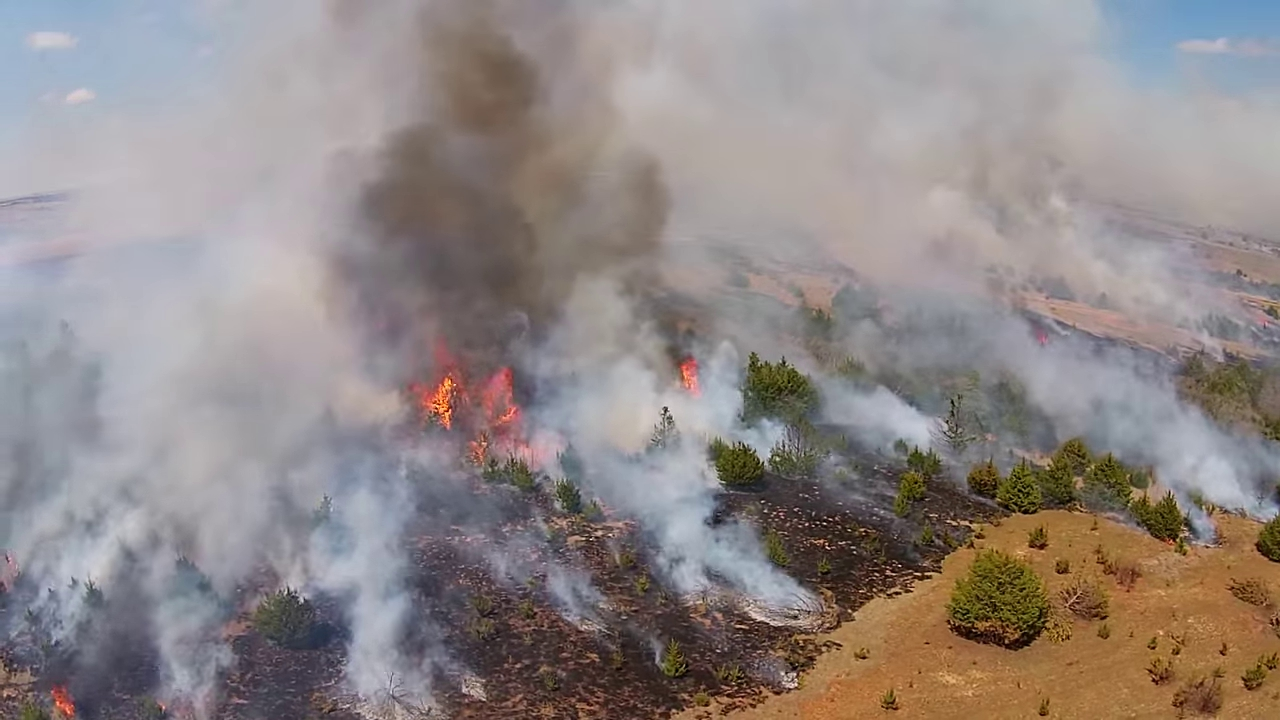forest_fire: (410, 367, 527, 463), (49, 685, 74, 717), (51, 686, 75, 719), (679, 359, 697, 391)
